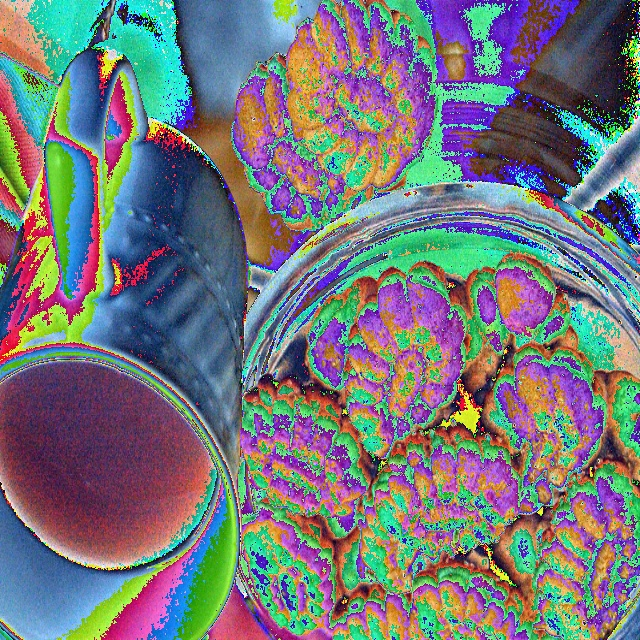background: (240, 251, 639, 639), (0, 218, 219, 577), (208, 0, 438, 234)
